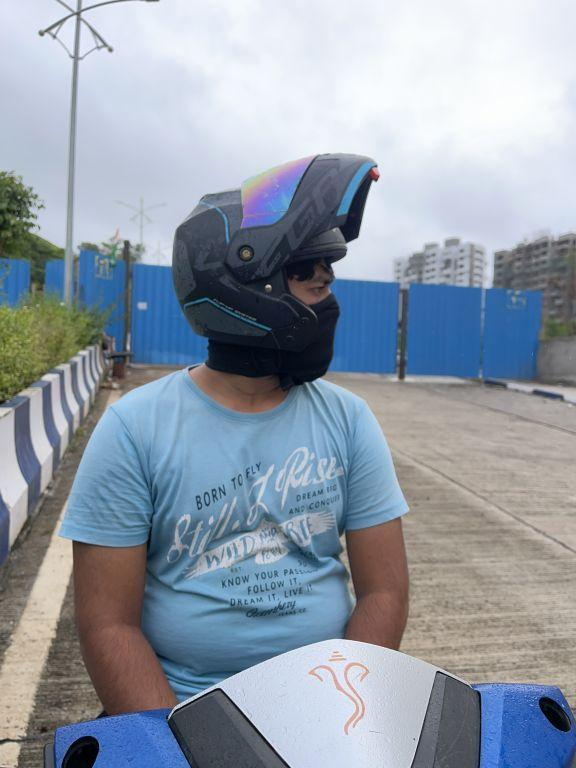helmet: (165, 144, 386, 382)
